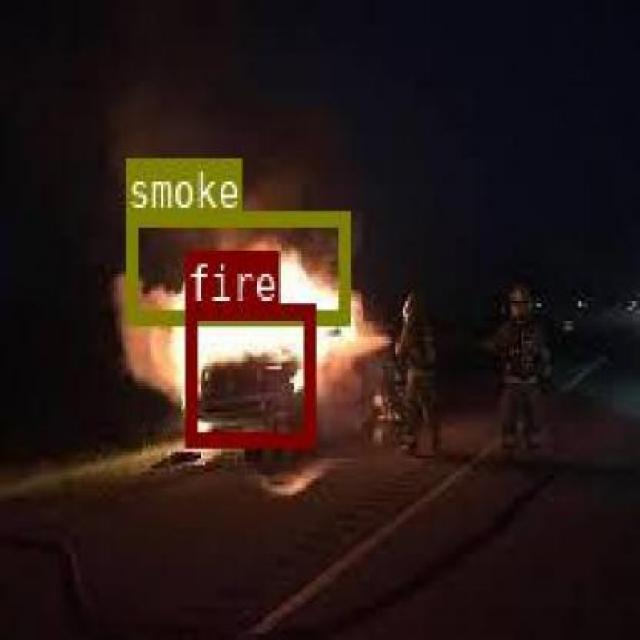Fire: (185, 301, 312, 444)
Smoke: (126, 210, 347, 321)
